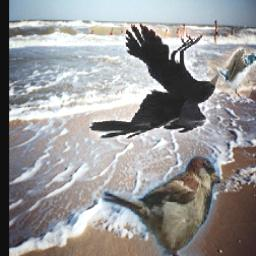Crow: (89, 25, 219, 141)
Sparrow: (103, 155, 221, 256)
Swallow: (205, 46, 256, 99)
